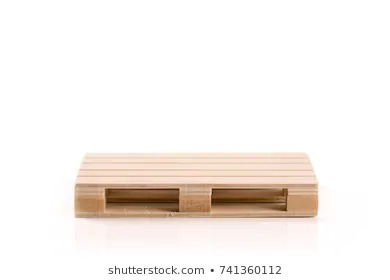unit_load: (75, 148, 315, 218)
